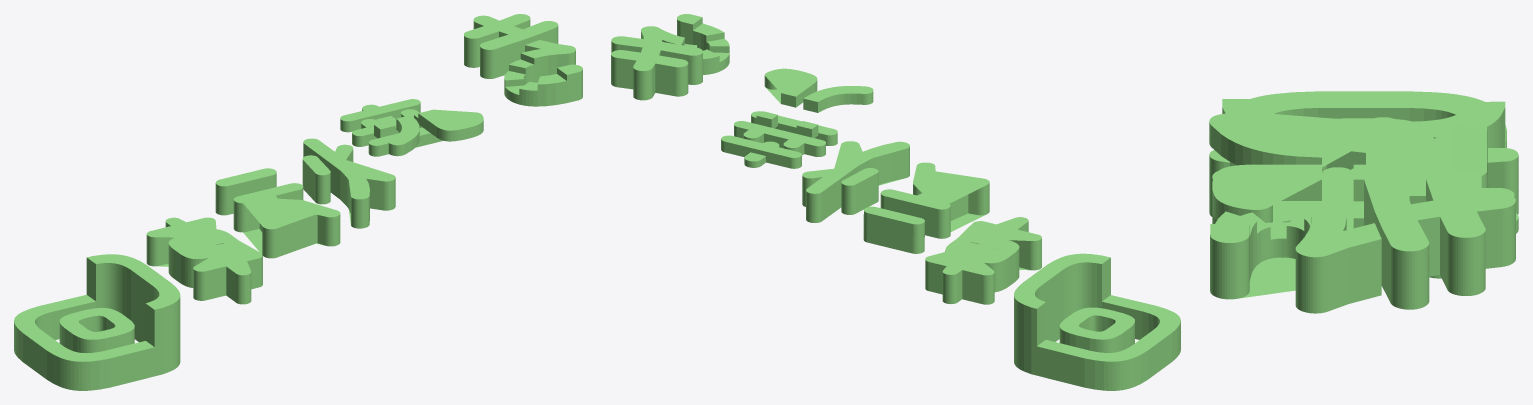
Rendered from kaiten_test3 (2).fbx.
The picture shows the model from 3 angles, left to right: view 1: azimuth 30°, elevation 25°; view 2: azimuth 150°, elevation 25°; view 3: azimuth 270°, elevation 25°; orthographic projection. The views are drawn at different scales.
Visible parts, largest first — view 1: テキスト.008, テキスト.006, テキスト.007, テキスト.015, テキスト.002, テキスト, テキスト.009, テキスト.013, テキスト.005, テキスト.004, テキスト.012, テキスト.010; view 2: テキスト.008, テキスト.006, テキスト.007, テキスト, テキスト.002, テキスト.013, テキスト.009, テキスト.015, テキスト.005, テキスト.004, テキスト.012, テキスト.011 (+2 smaller); view 3: テキスト, テキスト.015, テキスト.013, テキスト.008, テキスト.007, テキスト.006, テキスト.005, テキスト.010, テキスト.014, テキスト.002, テキスト.012, テキスト.001 (+1 smaller).
Boxes of the visible parts, left/top/right/bottom form: テキスト.008: left=14, top=254, right=180, bottom=390; テキスト.006: left=146, top=217, right=262, bottom=304; テキスト.007: left=233, top=183, right=340, bottom=258; テキスト.015: left=504, top=40, right=582, bottom=106; テキスト.002: left=303, top=138, right=395, bottom=228; テキスト: left=464, top=14, right=558, bottom=78; テキスト.009: left=59, top=308, right=134, bottom=352; テキスト.013: left=388, top=109, right=483, bottom=156; テキスト.005: left=215, top=168, right=276, bottom=215; テキスト.004: left=302, top=155, right=330, bottom=204; テキスト.012: left=340, top=99, right=420, bottom=132; テキスト.010: left=368, top=127, right=443, bottom=156; テキスト.008: left=1014, top=253, right=1180, bottom=390; テキスト.006: left=925, top=217, right=1041, bottom=304; テキスト.007: left=880, top=162, right=989, bottom=238; テキスト: left=611, top=36, right=702, bottom=100; テキスト.002: left=802, top=141, right=909, bottom=222; テキスト.013: left=764, top=68, right=873, bottom=112; テキスト.009: left=1059, top=307, right=1134, bottom=352; テキスト.015: left=641, top=14, right=729, bottom=74; テキスト.005: left=863, top=206, right=924, bottom=253; テキスト.004: left=841, top=168, right=878, bottom=214; テキスト.012: left=721, top=135, right=801, bottom=168; テキスト.011: left=734, top=121, right=825, bottom=156; テキスト: left=1364, top=170, right=1515, bottom=309; テキスト.015: left=1210, top=210, right=1381, bottom=313; テキスト.013: left=1209, top=113, right=1321, bottom=222; テキスト.008: left=1222, top=91, right=1506, bottom=147; テキスト.007: left=1230, top=112, right=1400, bottom=172; テキスト.006: left=1209, top=126, right=1518, bottom=216; テキスト.005: left=1453, top=121, right=1488, bottom=187; テキスト.010: left=1322, top=167, right=1353, bottom=229; テキスト.014: left=1353, top=164, right=1378, bottom=228; テキスト.002: left=1212, top=171, right=1514, bottom=278; テキスト.012: left=1457, top=170, right=1481, bottom=194; テキスト.001: left=1409, top=181, right=1425, bottom=204.
Size of the model in its own units: 3120 by 1171 by 783.
